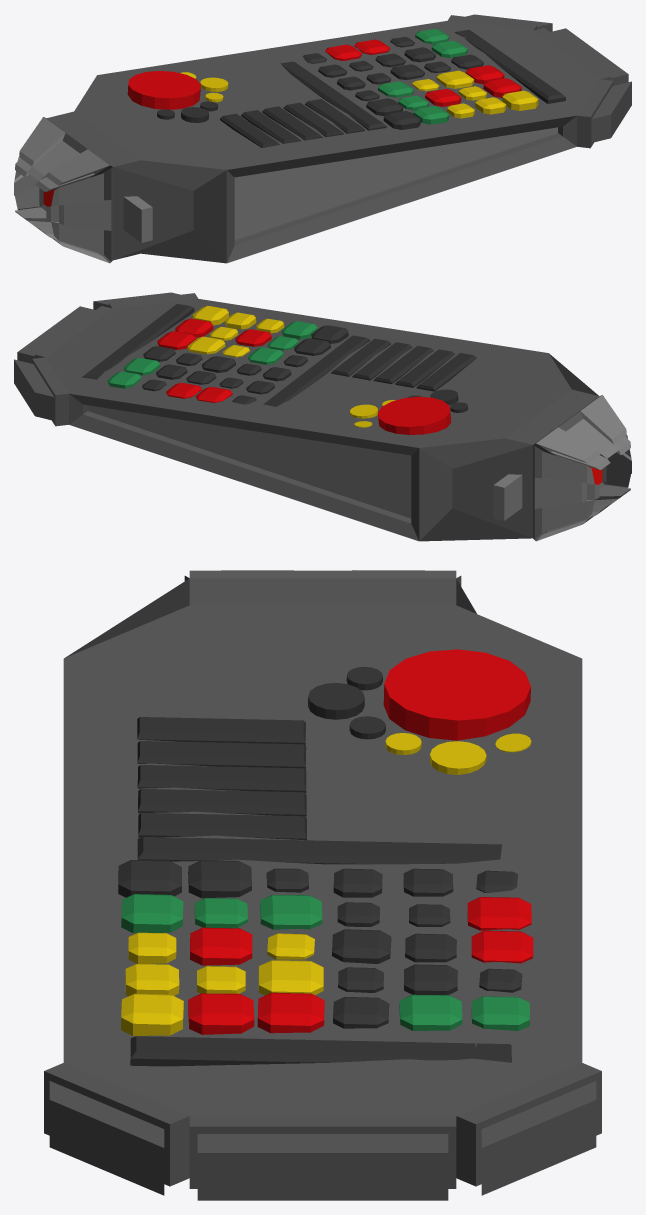
Rendered from Device.fbx.
3 views of the same model, one above another, from view 1: azimuth 30°, elevation 25°; view 2: azimuth 150°, elevation 25°; view 3: azimuth 270°, elevation 25° (orthographic). The views are drawn at different scales.
Parts seen in each view (by area): view 1: GadgetCase.001, GadgetButton; view 2: GadgetCase.001, GadgetButton; view 3: GadgetCase.001, GadgetButton.
Boxes of the visible parts, bbox=[...] form: GadgetCase.001: bbox=[14, 14, 631, 263]; GadgetButton: bbox=[127, 71, 200, 109]; GadgetCase.001: bbox=[14, 292, 631, 541]; GadgetButton: bbox=[378, 396, 451, 434]; GadgetCase.001: bbox=[44, 570, 601, 1200]; GadgetButton: bbox=[383, 649, 530, 740].
Size of the model in its own units: 11.88 by 27.9 by 4.85.
